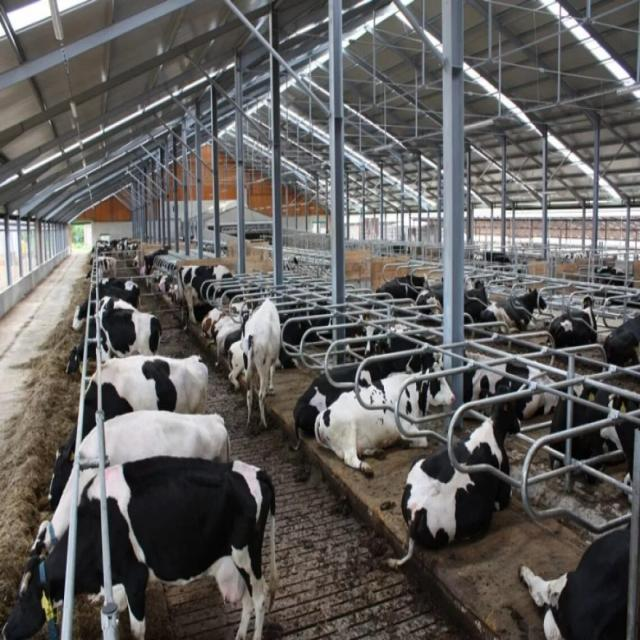cow: (1, 454, 278, 639), (386, 379, 530, 571), (47, 351, 208, 511), (517, 521, 639, 638)
